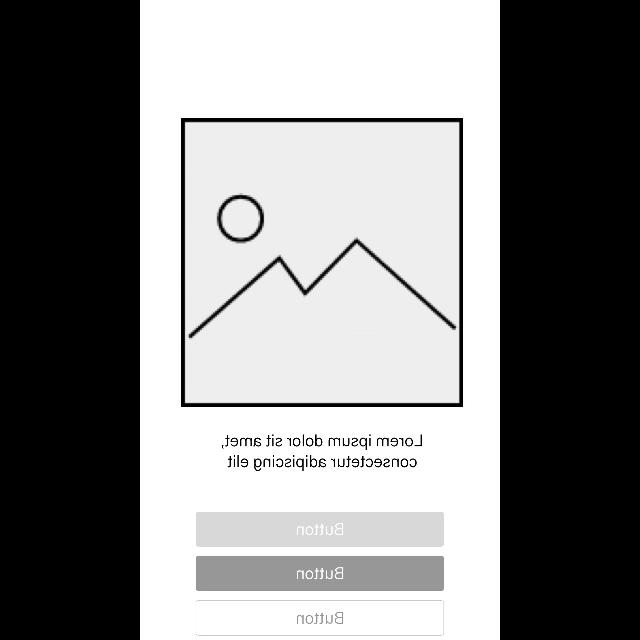image: (181, 119, 463, 408)
text: (221, 434, 421, 472)
textbutton: (196, 600, 444, 636), (196, 556, 444, 590), (196, 512, 444, 546)
